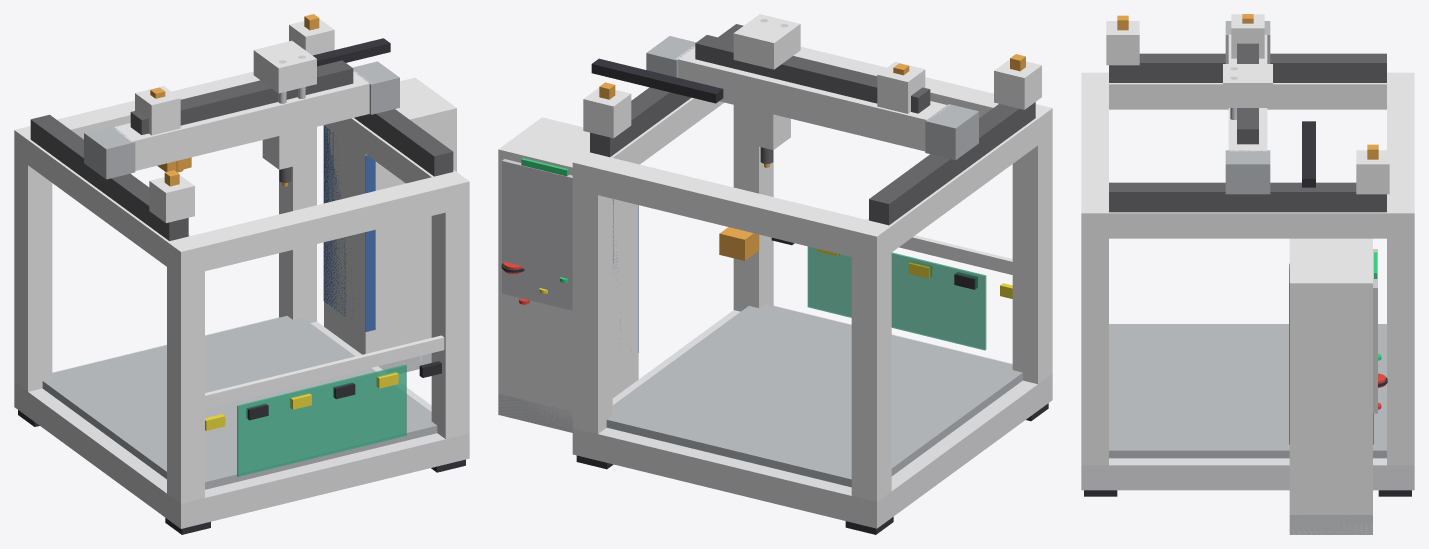
File: CNC_Cutter.glb
3 views of the same model, side by side, from view 1: azimuth 30°, elevation 25°; view 2: azimuth 150°, elevation 25°; view 3: azimuth 270°, elevation 25° (orthographic). The views are drawn at different scales.
Visible parts, largest first — view 1: Work_Table, Control_Cabinet, Base_Plate, Top_Beam_Front, Laser_Window, Pillar_FL, Pillar_BL, Gantry_Bridge, Pillar_FR, Pillar_BR, Y_Rail_Left, X_Rail (+15 smaller); view 2: Work_Table, Base_Plate, Control_Cabinet, Top_Beam_Back, Pillar_BL, Pillar_BR, Laser_Window, Pillar_FL, Control_Panel, Gantry_Bridge, Y_Rail_Left, X_Rail (+16 smaller); view 3: Work_Table, Control_Cabinet, Base_Plate, Y_Rail_Right, Top_Beam_Right, Y_Rail_Left, Pillar_BR, Pillar_FR, Top_Beam_Left, Top_Beam_Front, Top_Beam_Back, X_Carriage (+10 smaller).
Part boxes in pixels (x1,y1,x2,y2): Work_Table: (42,316,437,489); Control_Cabinet: (324,77,456,371); Base_Plate: (14,317,469,528); Top_Beam_Front: (167,171,469,276); Laser_Window: (237,364,406,476); Pillar_FL: (167,267,204,503); Pillar_BL: (14,155,52,391); Gantry_Bridge: (114,70,369,170); Pillar_FR: (431,207,469,438); Pillar_BR: (279,127,316,322); Y_Rail_Left: (30,114,188,240); X_Rail: (130,60,353,134); Work_Table: (606,304,1022,487); Base_Plate: (572,305,1052,528); Control_Cabinet: (498,117,638,432); Top_Beam_Back: (572,152,891,262); Pillar_BL: (851,253,891,501); Pillar_BR: (572,189,612,433); Laser_Window: (807,246,986,350); Pillar_FL: (1012,135,1052,383); Control_Panel: (502,159,572,310); Gantry_Bridge: (676,46,949,151); Y_Rail_Left: (869,102,1035,225); X_Rail: (695,35,930,113); Work_Table: (1109,324,1386,458); Control_Cabinet: (1289,238,1372,534); Base_Plate: (1081,458,1414,490); Y_Rail_Right: (1109,182,1386,212); Top_Beam_Right: (1109,212,1386,238); Y_Rail_Left: (1109,53,1386,82); Pillar_BR: (1387,238,1414,465); Pillar_FR: (1081,238,1108,465); Top_Beam_Left: (1109,83,1386,109); Top_Beam_Front: (1081,72,1108,238); Top_Beam_Back: (1387,72,1414,238); X_Carriage: (1223,64,1272,107).
Bounding box in the file's own units: 1.59 × 1.49 × 1.2.
